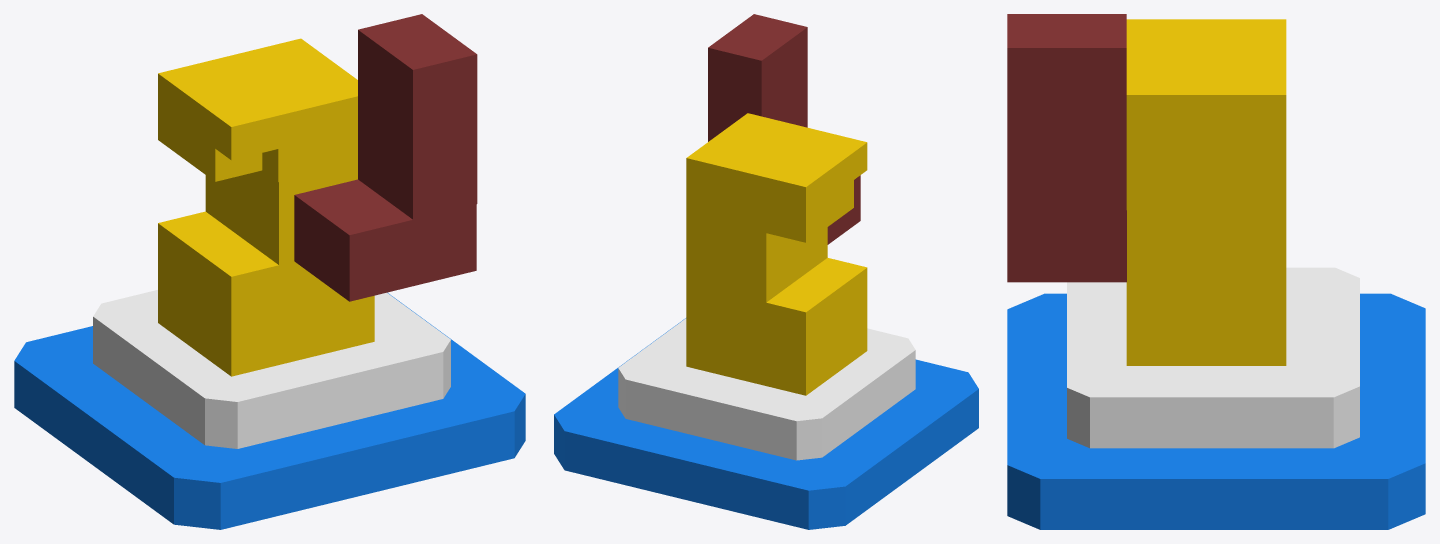
The model's file is Statue01.fbx.
3 views of the same model, side by side, from view 1: azimuth 30°, elevation 25°; view 2: azimuth 150°, elevation 25°; view 3: azimuth 270°, elevation 25° (orthographic). The views are drawn at different scales.
Parts seen in each view (by area): view 1: yellow Mesh (1), blue Mesh (1), Material #197 Mesh (1), green Mesh (1); view 2: yellow Mesh (1), blue Mesh (1), green Mesh (1), Material #197 Mesh (1); view 3: yellow Mesh (1), blue Mesh (1), green Mesh (1), Material #197 Mesh (1).
Part boxes in pixels (x1,y1,x2,y2): yellow Mesh (1): [158, 38, 374, 376]; blue Mesh (1): [14, 292, 525, 529]; Material #197 Mesh (1): [294, 14, 477, 301]; green Mesh (1): [93, 290, 450, 448]; yellow Mesh (1): [686, 113, 867, 395]; blue Mesh (1): [554, 318, 978, 529]; green Mesh (1): [618, 318, 915, 460]; Material #197 Mesh (1): [708, 14, 860, 244]; yellow Mesh (1): [1126, 19, 1286, 365]; blue Mesh (1): [1007, 293, 1425, 529]; green Mesh (1): [1067, 267, 1359, 448]; Material #197 Mesh (1): [1007, 14, 1126, 282].
Size of the model in its own units: 5.5 by 6.21 by 5.25.
